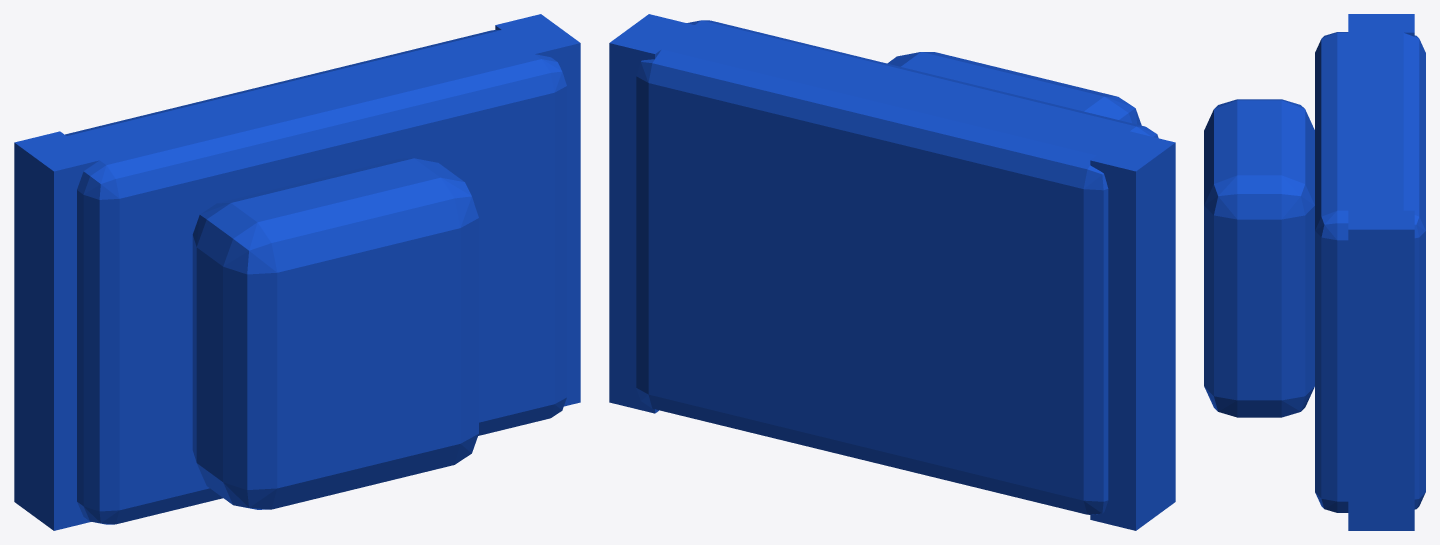
Rendered from car_body.obj.
3 renders of one model, left to right at view 1: azimuth 30°, elevation 25°; view 2: azimuth 150°, elevation 25°; view 3: azimuth 270°, elevation 25°, orthographic. The views are drawn at different scales.
Parts seen in each view (by area): view 1: car_chassis, car_cabin, car_bumper_rear, car_bumper_front; view 2: car_chassis, car_bumper_rear, car_bumper_front, car_cabin; view 3: car_cabin, car_chassis, car_bumper_front, car_bumper_rear.
Part boxes in pixels (x1=…): car_chassis: x1=65, y1=30, x2=566, y2=524; car_cabin: x1=192, y1=158, x2=478, y2=509; car_bumper_rear: x1=14, y1=131, x2=99, y2=530; car_bumper_front: x1=495, y1=14, x2=580, y2=406; car_chassis: x1=636, y1=20, x2=1158, y2=514; car_bumper_rear: x1=1090, y1=131, x2=1175, y2=530; car_bumper_front: x1=609, y1=14, x2=694, y2=413; car_cabin: x1=887, y1=52, x2=1141, y2=125; car_cabin: x1=1204, y1=99, x2=1314, y2=417; car_chassis: x1=1315, y1=32, x2=1425, y2=512; car_bumper_front: x1=1348, y1=210, x2=1414, y2=530; car_bumper_rear: x1=1348, y1=14, x2=1414, y2=36.
Size of the model in its own units: 0.46 by 0.3 by 0.2.
